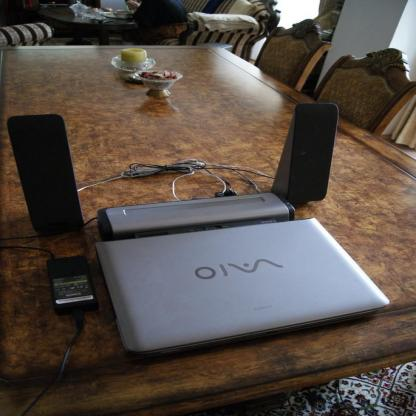board: (91, 218, 386, 350)
